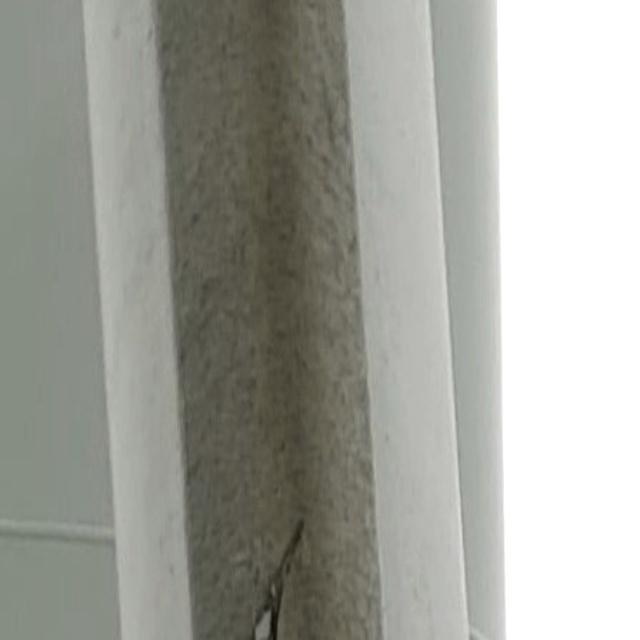EROSION: (161, 8, 379, 640)
